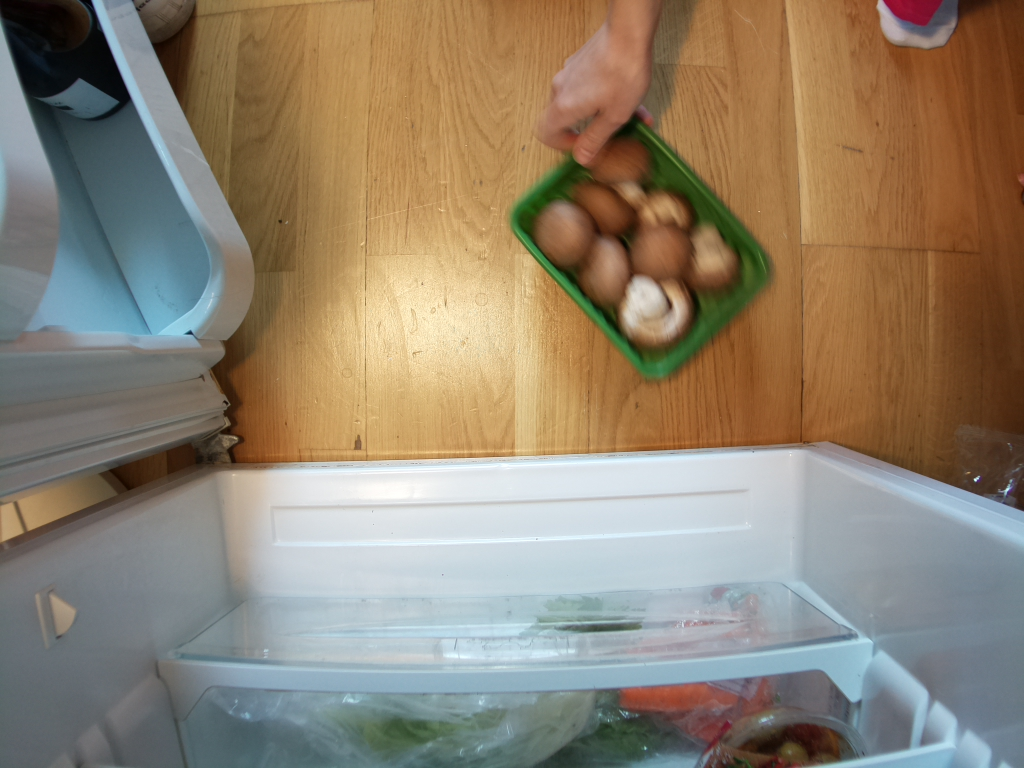mushrooms: (508, 107, 776, 390)
